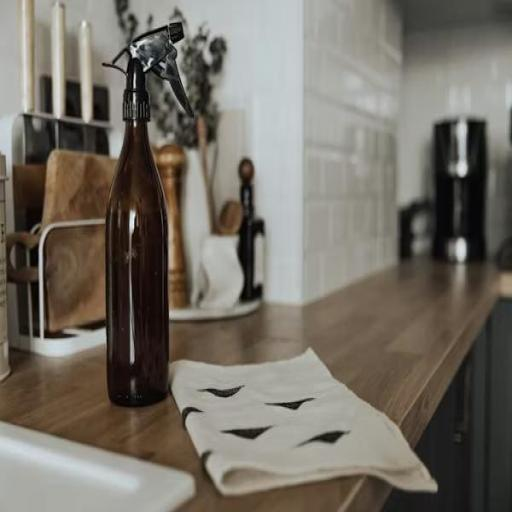bottle: (94, 13, 198, 420)
